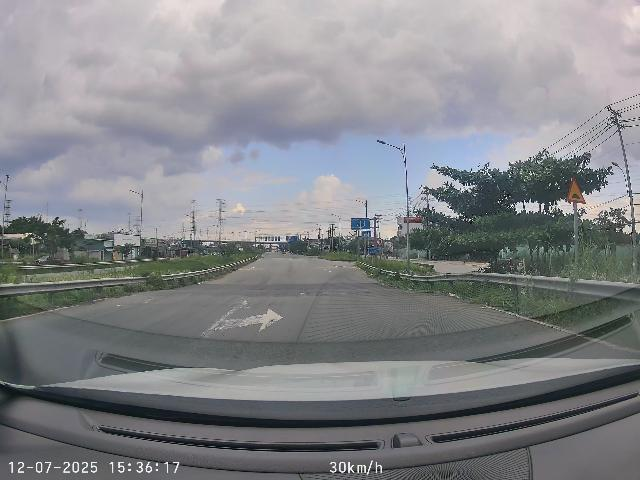221-duong-go-ghe: (567, 176, 586, 204)
